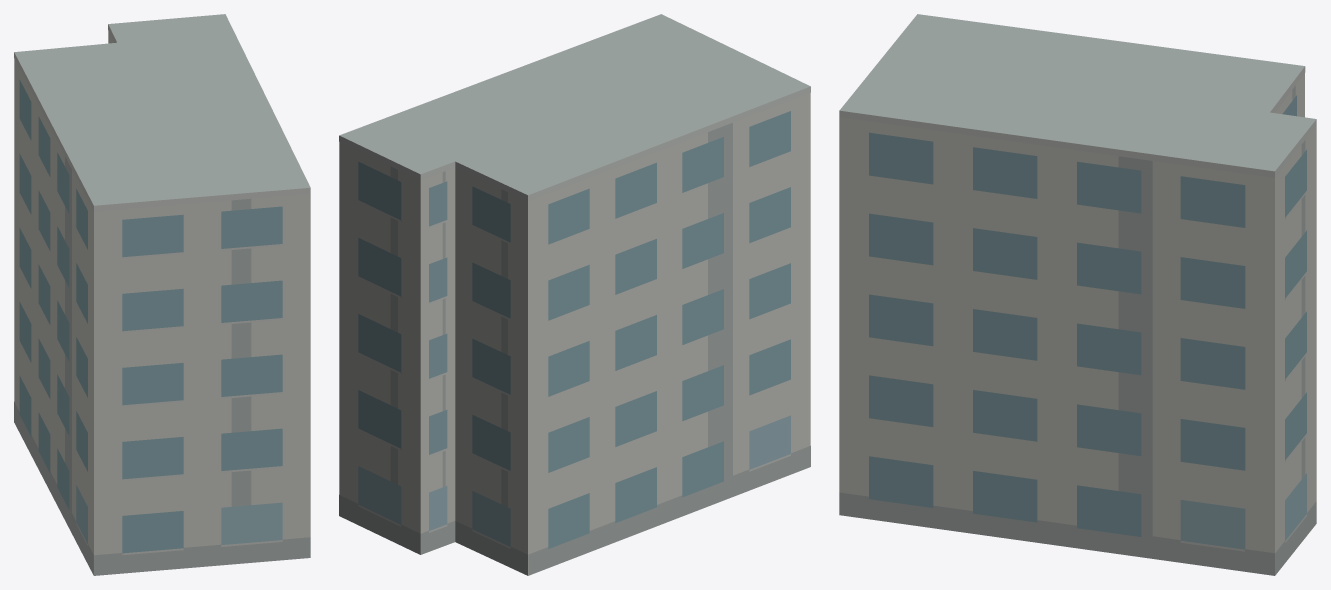
The model's file is survey-upis-32890778.glb.
3 views of the same model, side by side, from view 1: azimuth 30°, elevation 25°; view 2: azimuth 150°, elevation 25°; view 3: azimuth 270°, elevation 25° (orthographic). The views are drawn at different scales.
Visible parts, largest first — view 1: survey-upis-32890778.tmp; view 2: survey-upis-32890778.tmp; view 3: survey-upis-32890778.tmp.
Part boxes in pixels (x1=…): survey-upis-32890778.tmp: x1=14, y1=14, x2=310, y2=575; survey-upis-32890778.tmp: x1=339, y1=14, x2=810, y2=575; survey-upis-32890778.tmp: x1=839, y1=14, x2=1316, y2=575.
Size of the model in its own units: 12.48 by 14.95 by 16.
